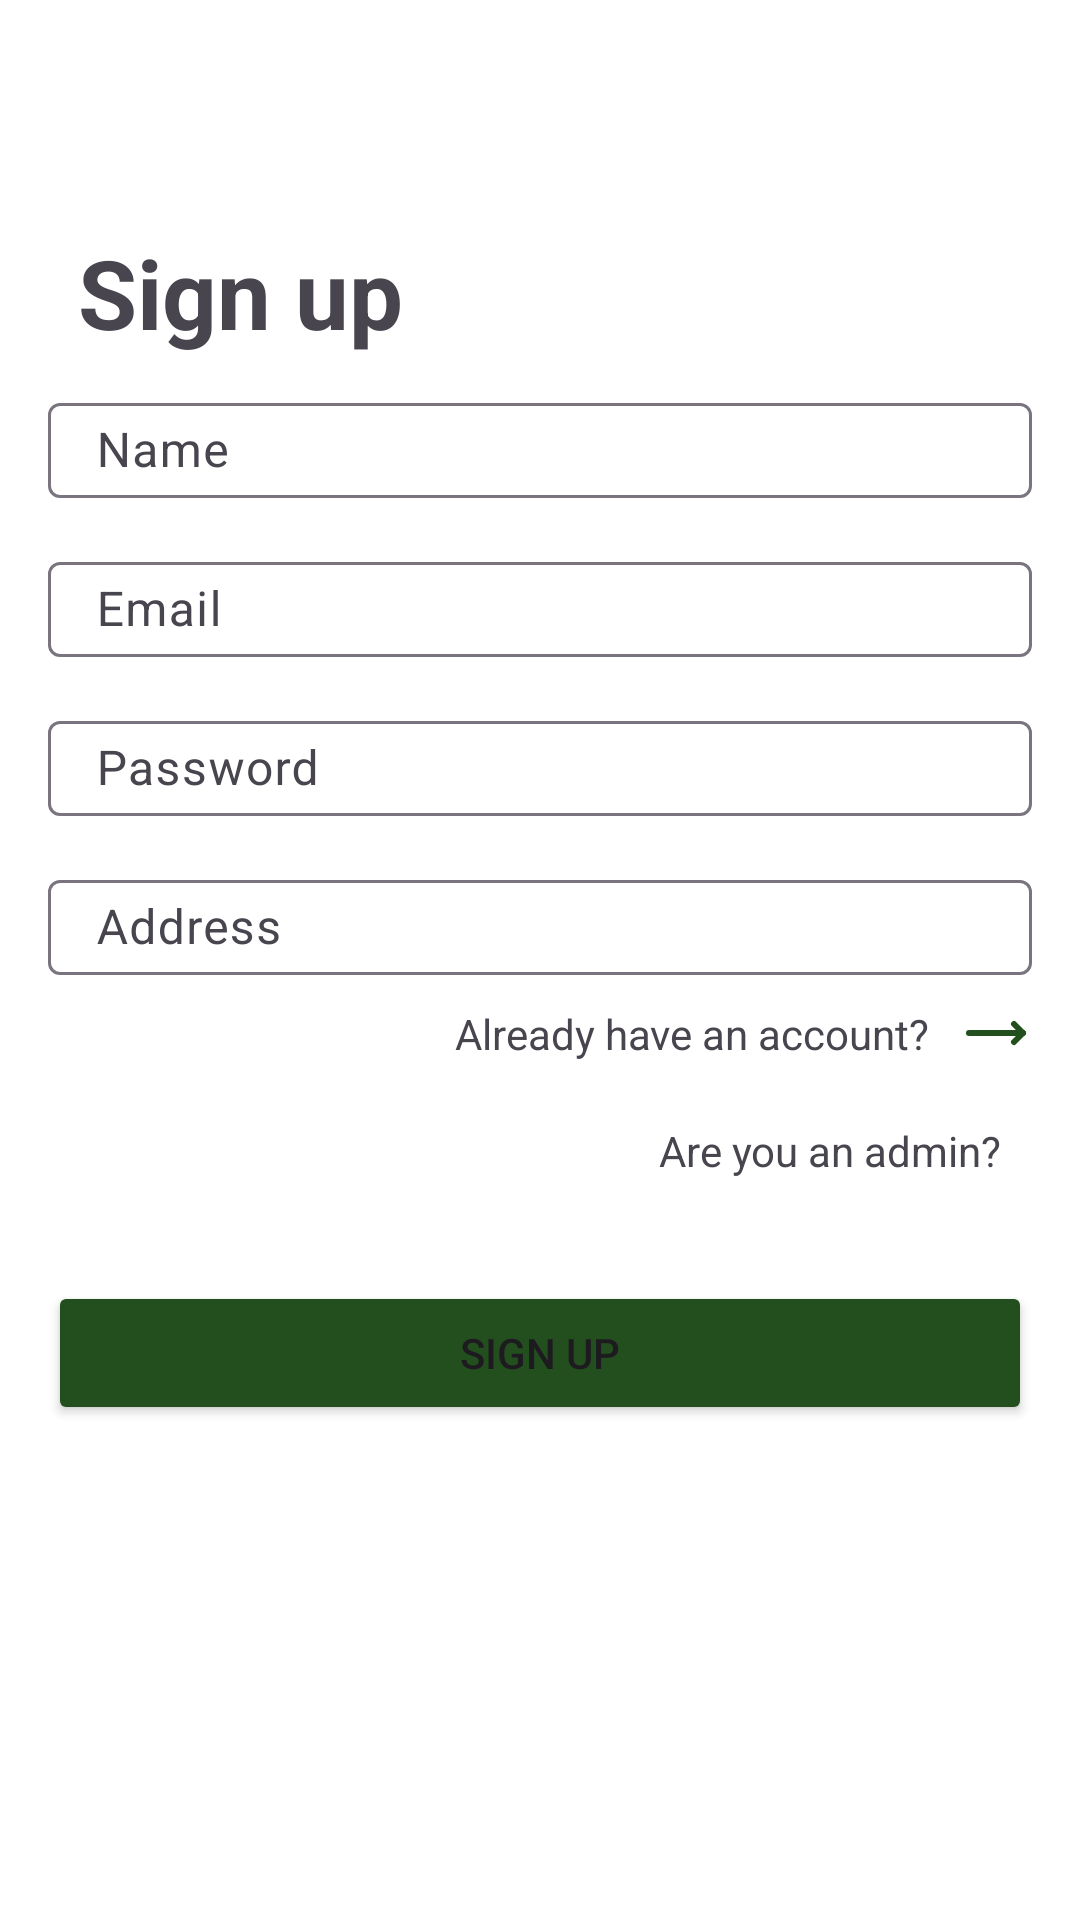

Icon bounding boxes for this 1080 x 1920 phone screenshot, format [left=x1, top=y1, right=x2, bottom=y2]:
right arrow: [left=966, top=1021, right=1026, bottom=1045]
